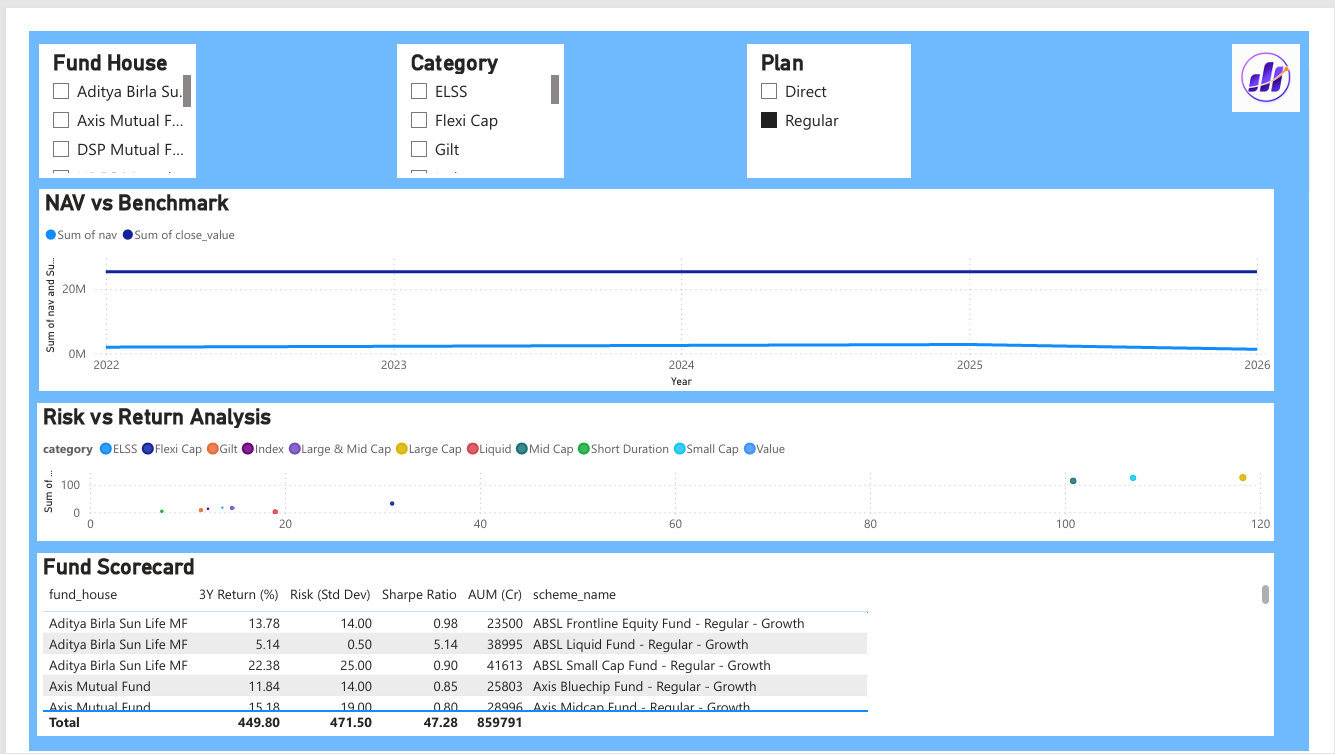

This screenshot's page, from the dashboard's own definition file:
{"tool":"powerbi","page":{"name":"Fund Performance","canvas":[1280,720],"ordinal":1},"visuals":[{"type":"tableEx","title":"Fund Scorecard","fields":{"Values":["07_scheme_performance.fund_house","Sum(07_scheme_performance.return_3yr_pct)","Sum(07_scheme_performance.std_dev_ann_pct)","Sum(07_scheme_performance.sharpe_ratio)","Sum(07_scheme_performance.aum_crore)","01_fund_master.scheme_name"]},"box":[8.3,521.7,1236.7,183.3],"z":0},{"type":"slicer","fields":{"Values":["07_scheme_performance.fund_house"]},"box":[10,13.3,156.7,133.3],"z":1000},{"type":"slicer","fields":{"Values":["07_scheme_performance.category"]},"box":[368.3,13.3,166.7,133.3],"z":2000},{"type":"slicer","fields":{"Values":["07_scheme_performance.plan"]},"box":[718.3,13.3,163.3,133.3],"z":3000},{"type":"scatterChart","title":"Risk vs Return Analysis","fields":{"X":["Sum(07_scheme_performance.return_3yr_pct)"],"Y":["Sum(07_scheme_performance.std_dev_ann_pct)"],"Series":["07_scheme_performance.category"],"Size":["Sum(07_scheme_performance.aum_crore)"]},"box":[8.3,371.7,1236.7,138.3],"z":4000},{"type":"lineChart","title":"NAV vs Benchmark","fields":{"Category":["02_nav_history.date.Variation.Date Hierarchy.Year","02_nav_history.date.Variation.Date Hierarchy.Quarter","02_nav_history.date.Variation.Date Hierarchy.Month","02_nav_history.date.Variation.Date Hierarchy.Day"],"Y":["Sum(02_nav_history.nav)","Sum(10_benchmark_indices.close_value)"]},"box":[10,158.3,1235,201.7],"z":5000},{"type":"image","box":[1191.7,13.3,88.3,66.7],"z":6000}]}

Visuals, with their boxes in screenshot pixels (x1, y1, x2, y2), scaled from the page's 1280x720 canvas onto the 1335x754 screenshot:
"Fund Scorecard" tableEx: select_region(9, 546, 1298, 738)
slicer - 07_scheme_performance.fund_house: select_region(10, 14, 174, 154)
slicer - 07_scheme_performance.category: select_region(384, 14, 558, 154)
slicer - 07_scheme_performance.plan: select_region(749, 14, 919, 154)
"Risk vs Return Analysis" scatterChart: select_region(9, 389, 1298, 534)
"NAV vs Benchmark" lineChart: select_region(10, 166, 1298, 377)
image: select_region(1243, 14, 1334, 84)
